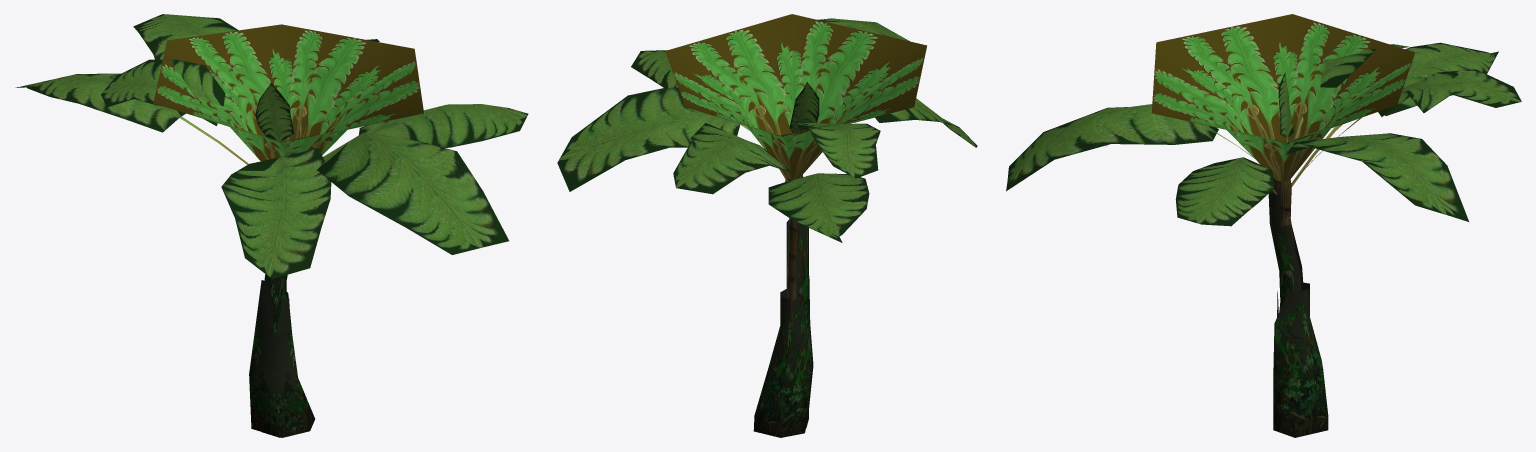
File: fern_tree_b.fbx
3 renders of one model, left to right at view 1: azimuth 30°, elevation 25°; view 2: azimuth 150°, elevation 25°; view 3: azimuth 270°, elevation 25°, orthographic. The views are drawn at different scales.
Visible parts, largest first — view 1: cone_leaves, fern_leaf08, fern_leaf01, vine1, fern_leaf04, fern_leaf06, fern_leaf02, fern_leaf03, fern_leaf05, vine.001; view 2: cone_leaves, fern_leaf07, vine1, fern_leaf06, fern_leaf03, fern_leaf02, vine.001, fern_leaf04, fern_leaf01, fern_leaf05, trunk, fern_leaf08; view 3: cone_leaves, fern_leaf08, vine1, fern_leaf07, fern_leaf04, fern_leaf03, fern_leaf06, vine.001, fern_leaf02, trunk, fern_leaf05.
Part boxes in pixels (x1,y1,x2,y2): cone_leaves: [153, 24, 423, 161]; fern_leaf08: [316, 132, 508, 254]; fern_leaf01: [221, 148, 331, 278]; vine1: [249, 280, 314, 437]; fern_leaf04: [359, 104, 528, 147]; fern_leaf06: [15, 73, 248, 164]; fern_leaf02: [101, 59, 225, 125]; fern_leaf03: [133, 14, 238, 59]; fern_leaf05: [255, 83, 294, 141]; vine.001: [261, 274, 287, 437]; cone_leaves: [665, 14, 927, 179]; fern_leaf07: [557, 87, 749, 191]; vine1: [753, 276, 813, 437]; fern_leaf06: [768, 173, 869, 242]; fern_leaf03: [673, 123, 789, 194]; fern_leaf02: [795, 121, 880, 178]; vine.001: [786, 175, 809, 427]; fern_leaf04: [631, 50, 677, 87]; fern_leaf01: [800, 98, 977, 177]; fern_leaf05: [789, 82, 819, 132]; trunk: [785, 177, 797, 330]; fern_leaf08: [817, 18, 909, 41]; cone_leaves: [1151, 14, 1415, 181]; fern_leaf08: [1006, 104, 1254, 191]; vine1: [1273, 282, 1328, 437]; fern_leaf07: [1285, 133, 1468, 221]; fern_leaf04: [1175, 157, 1277, 226]; fern_leaf03: [1291, 69, 1521, 183]; fern_leaf06: [1291, 42, 1498, 186]; vine.001: [1268, 177, 1303, 308]; fern_leaf02: [1295, 44, 1408, 138]; trunk: [1275, 179, 1295, 276]; fern_leaf05: [1278, 72, 1294, 141].
Bounding box in the file's own units: 2473 × 2332 × 3147.
Materials: 2 (2 with a texture image).
